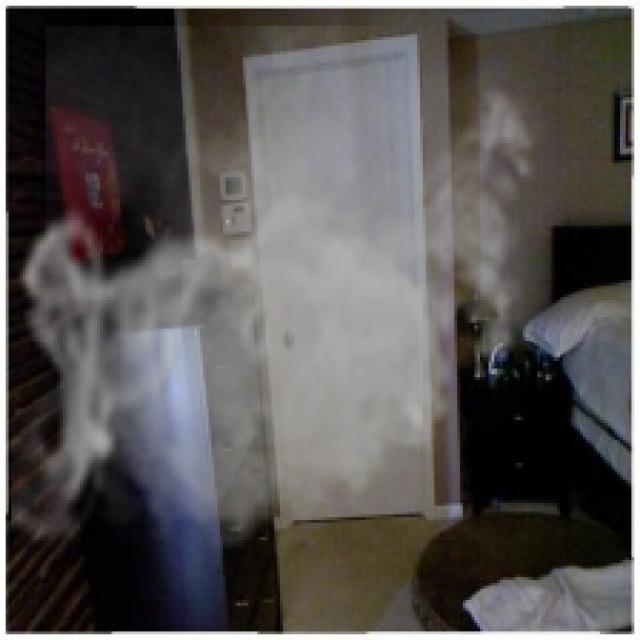smoke: (11, 26, 552, 568)
